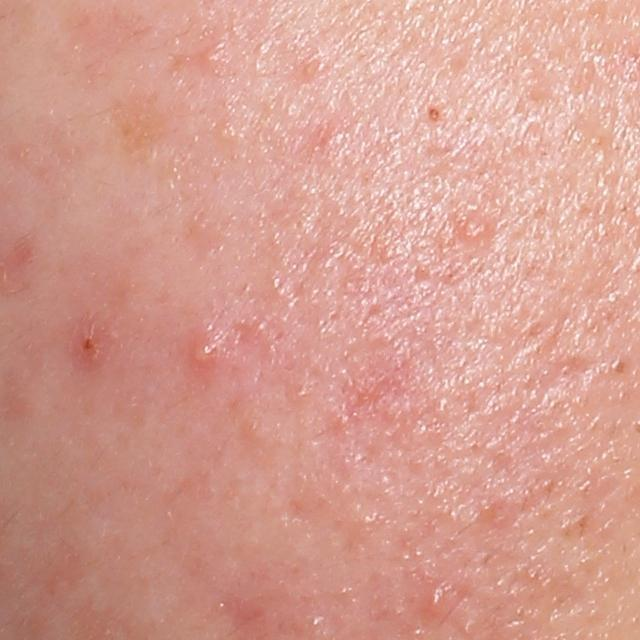comedo: (201, 47, 226, 66), (215, 122, 239, 140), (424, 104, 442, 123)
papule: (71, 323, 109, 359), (422, 583, 448, 620)
pustule: (183, 333, 223, 374)
